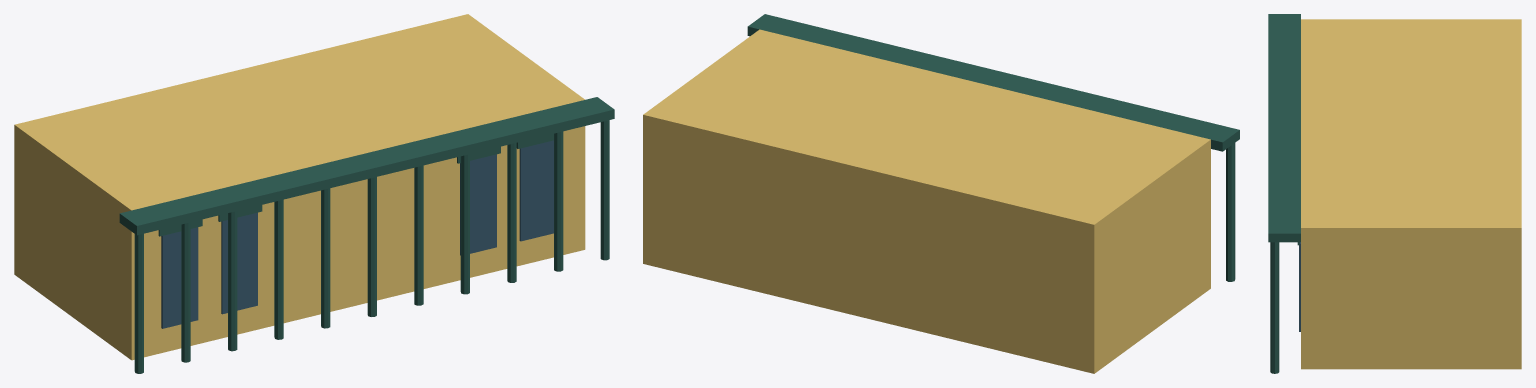
File: colunas.glb
The picture shows the model from 3 angles, left to right: view 1: azimuth 30°, elevation 25°; view 2: azimuth 150°, elevation 25°; view 3: azimuth 270°, elevation 25°; orthographic projection. The views are drawn at different scales.
Parts seen in each view (by area): view 1: colunas; view 2: colunas; view 3: colunas.
Boxes of the visible parts, bbox=[...] form: colunas: bbox=[14, 14, 614, 373]; colunas: bbox=[643, 14, 1239, 373]; colunas: bbox=[1268, 14, 1521, 373].
Bounding box in the file's own units: 8 × 2.4 × 3.9.
